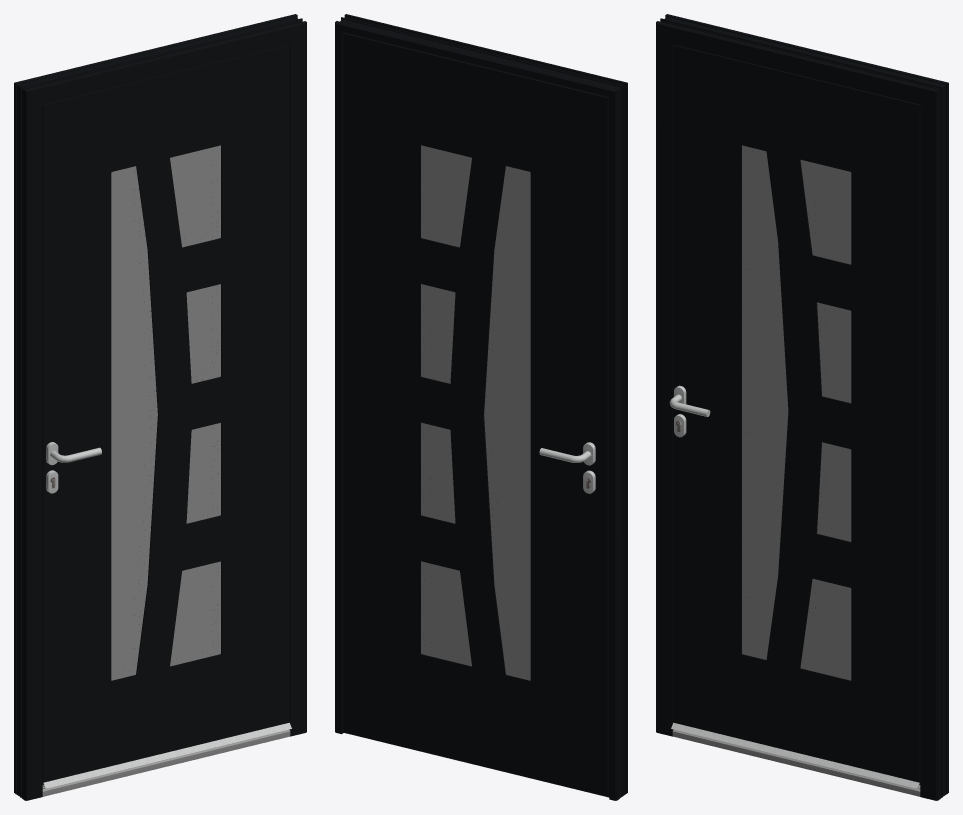
3 views of the same model, side by side, from view 1: azimuth 30°, elevation 25°; view 2: azimuth 150°, elevation 25°; view 3: azimuth 330°, elevation 25° (orthographic).
Parts seen in each view (by area): view 1: bloco_23, aroFixo, Box001, aroMovel, rodapé, escovas, puxador001; view 2: bloco_23, Box001, aroFixo, aroMovel, puxador; view 3: bloco_23, aroFixo, Box001, aroMovel, rodapé, escovas, puxador001.
Boxes of the visible parts, x1,y1,x2,y2 form: bloco_23: (43,45,289,782); aroFixo: (14,14,306,800); Box001: (111,145,220,680); aroMovel: (42,44,289,784); rodapé: (42,729,290,796); escovas: (42,722,291,788); puxador001: (46,442,101,493); bloco_23: (343,34,607,796); Box001: (421,145,530,680); aroFixo: (335,14,627,800); aroMovel: (343,32,609,796); puxador: (539,442,595,493); bloco_23: (673,45,919,782); aroFixo: (656,14,948,800); Box001: (742,145,851,680); aroMovel: (673,44,920,784); rodapé: (672,729,920,796); escovas: (671,722,920,788); puxador001: (669,385,710,437).
Size of the model in its own units: 900 by 2165 by 209.
Materials: 7 (2 with a texture image).
